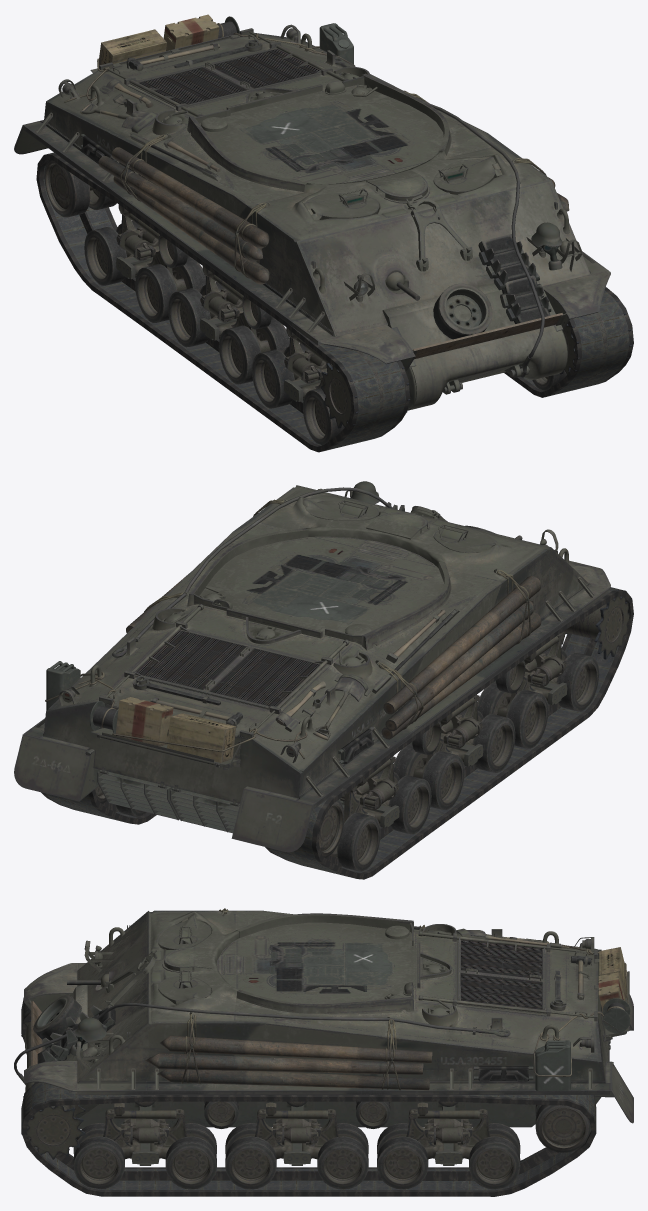
The model's file is FuryBody.fbx.
The picture shows the model from 3 angles, top to bottom: view 1: azimuth 30°, elevation 25°; view 2: azimuth 150°, elevation 25°; view 3: azimuth 270°, elevation 25°; orthographic projection. The views are drawn at different scales.
Parts seen in each view (by area): view 1: american\A104_M4A3E8A\normal\l\Hull.pri~6~5, american\A104_M4A3E8A\normal\l\Chassis.pri~6~2, american\A104_M4A3E8A\normal\l\Chassis.pri~6~3, american\A104_M4A3E8A\normal\l\Chassis.pri~6~4, american\A104_M4A3E8A\normal\l\Chassis.pri~6~1; view 2: american\A104_M4A3E8A\normal\l\Hull.pri~6~5, american\A104_M4A3E8A\normal\l\Chassis.pri~6~2, american\A104_M4A3E8A\normal\l\Chassis.pri~6~3, american\A104_M4A3E8A\normal\l\Chassis.pri~6~4; view 3: american\A104_M4A3E8A\normal\l\Hull.pri~6~5, american\A104_M4A3E8A\normal\l\Chassis.pri~6~1, american\A104_M4A3E8A\normal\l\Chassis.pri~6~4.
Boxes of the visible parts, box(x1,y1,x2,y2) form: american\A104_M4A3E8A\normal\l\Hull.pri~6~5: box(14, 14, 610, 410); american\A104_M4A3E8A\normal\l\Chassis.pri~6~2: box(44, 160, 410, 445); american\A104_M4A3E8A\normal\l\Chassis.pri~6~3: box(36, 152, 410, 452); american\A104_M4A3E8A\normal\l\Chassis.pri~6~4: box(504, 287, 633, 397); american\A104_M4A3E8A\normal\l\Chassis.pri~6~1: box(532, 300, 632, 390); american\A104_M4A3E8A\normal\l\Hull.pri~6~5: box(14, 481, 610, 852); american\A104_M4A3E8A\normal\l\Chassis.pri~6~2: box(319, 590, 629, 871); american\A104_M4A3E8A\normal\l\Chassis.pri~6~3: box(265, 587, 633, 879); american\A104_M4A3E8A\normal\l\Chassis.pri~6~4: box(41, 750, 156, 824); american\A104_M4A3E8A\normal\l\Hull.pri~6~5: box(14, 908, 633, 1165); american\A104_M4A3E8A\normal\l\Chassis.pri~6~1: box(21, 1084, 590, 1189); american\A104_M4A3E8A\normal\l\Chassis.pri~6~4: box(21, 1082, 596, 1196).
Bounding box in the file's own units: 3.11 × 1.98 × 6.13.
Materials: 3 (3 with a texture image).
